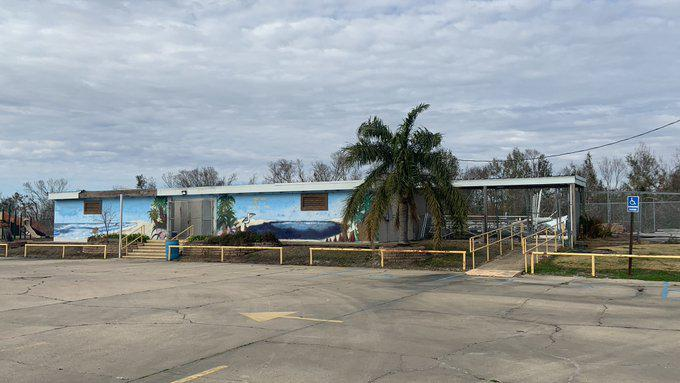affected: (42, 164, 598, 264)
